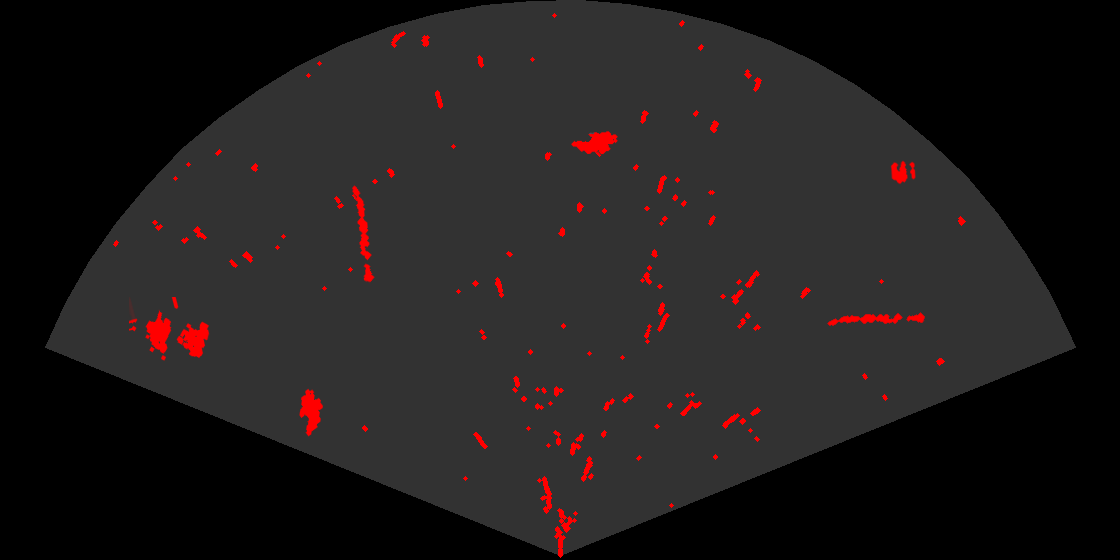AUV: (298, 387, 325, 438), (570, 130, 619, 155)
ball: (889, 159, 917, 186)
cage: (129, 297, 211, 362)
chain: (351, 184, 376, 284), (826, 311, 925, 327)
